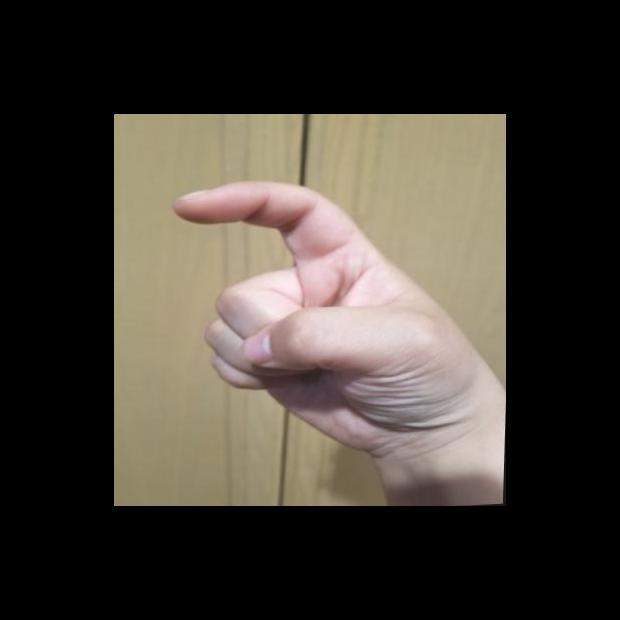W: (160, 163, 505, 470)
